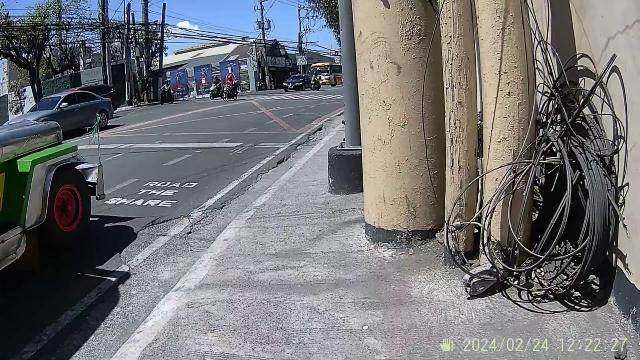utility_post: (354, 5, 442, 242), (474, 2, 534, 264), (434, 0, 484, 260)
